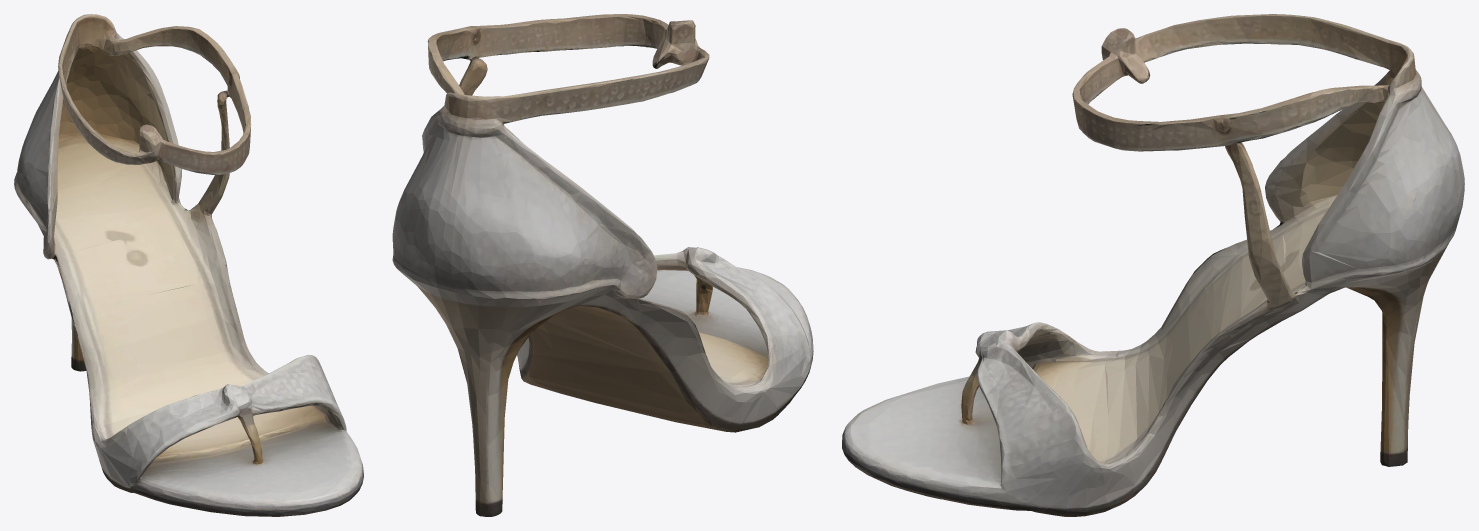
3 views of the same model, side by side, from view 1: azimuth 30°, elevation 25°; view 2: azimuth 150°, elevation 25°; view 3: azimuth 270°, elevation 25° (orthographic). The views are drawn at different scales.
Visible parts, largest first — view 1: geometry_0; view 2: geometry_0; view 3: geometry_0.
Part boxes in pixels (bbox=[...]): geometry_0: bbox=[14, 14, 363, 516]; geometry_0: bbox=[392, 14, 813, 516]; geometry_0: bbox=[842, 14, 1464, 516].
Size of the model in its own units: 0.4857 by 0.7363 by 0.9977.
1 material, 1 textured.
